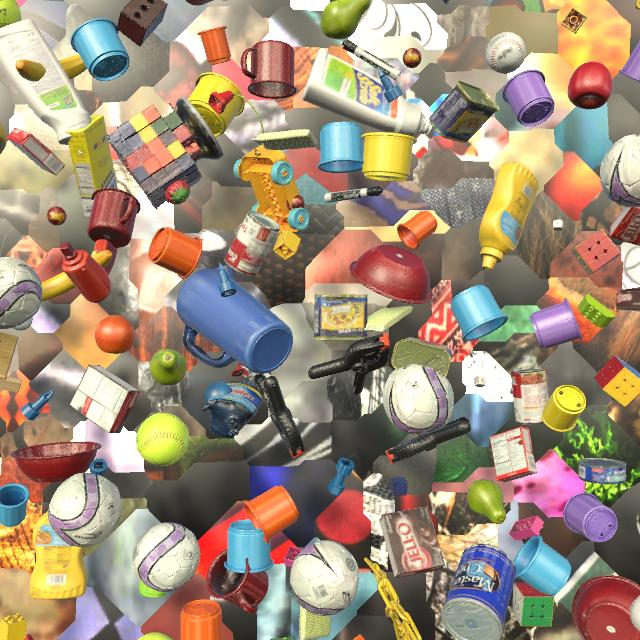ycb_002_master_chef_can: (441, 544, 517, 640)
ycb_004_sugar_box: (66, 115, 118, 218)
ycb_005_tomato_soup_can: (224, 211, 280, 277), (510, 366, 549, 425), (636, 512, 640, 534)
ycb_006_mustard_bottle: (479, 163, 539, 270), (30, 511, 87, 600), (0, 122, 7, 154)
ycb_007_tuna_fish_can: (578, 458, 626, 484), (442, 0, 452, 5)
ycb_008_pudding_box: (70, 364, 140, 433), (380, 506, 445, 579), (616, 291, 640, 311)
ycb_009_gelatin_box: (7, 128, 65, 175), (490, 426, 537, 482), (609, 207, 640, 246)
ycb_010_potted_meat_can: (429, 80, 499, 143), (312, 294, 368, 340), (391, 337, 452, 378)
ycb_011_banana: (41, 250, 113, 302), (15, 55, 87, 81)
ycb_012_strawberry: (165, 180, 190, 205)
ycb_013_apple: (568, 62, 612, 109)
ycb_016_pear: (320, 0, 370, 40), (467, 479, 506, 524), (150, 349, 187, 386)
ycb_017_orange: (95, 315, 135, 354)
